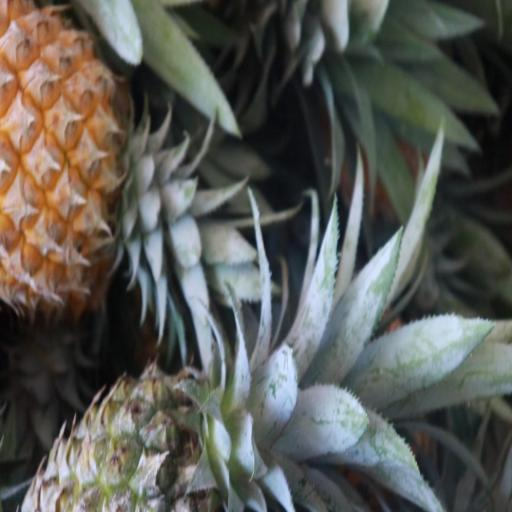------------------------------: (20, 364, 266, 512)
Pineapple - v8 v1: (0, 0, 165, 304)
